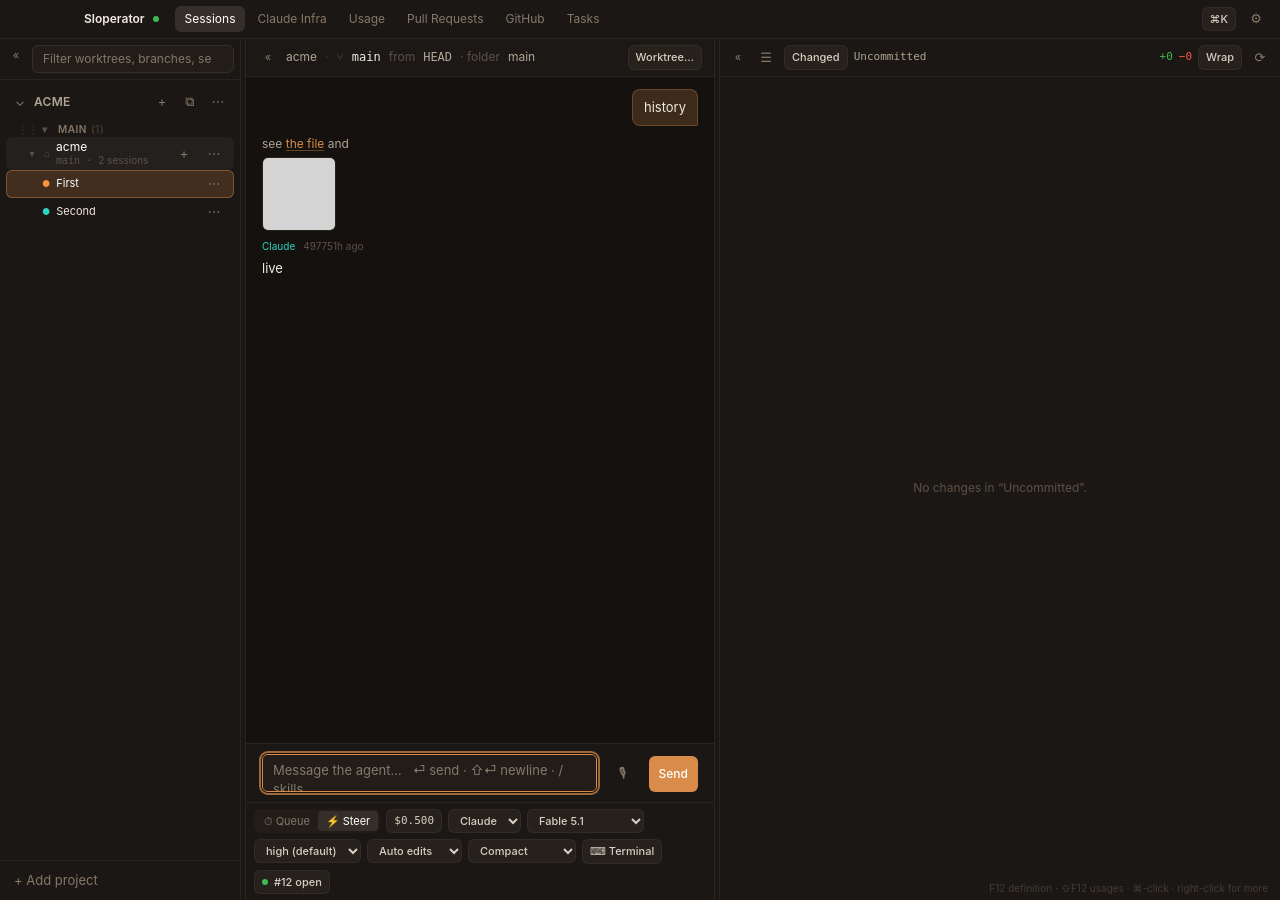
it: the pull request button in a session › shows the number and state of the pull request on this branch, and opens it in the PR tab
Click the button with aria-label "Pull request for this branch" at (292, 882), box x1=254 y1=870 x2=330 y2=894
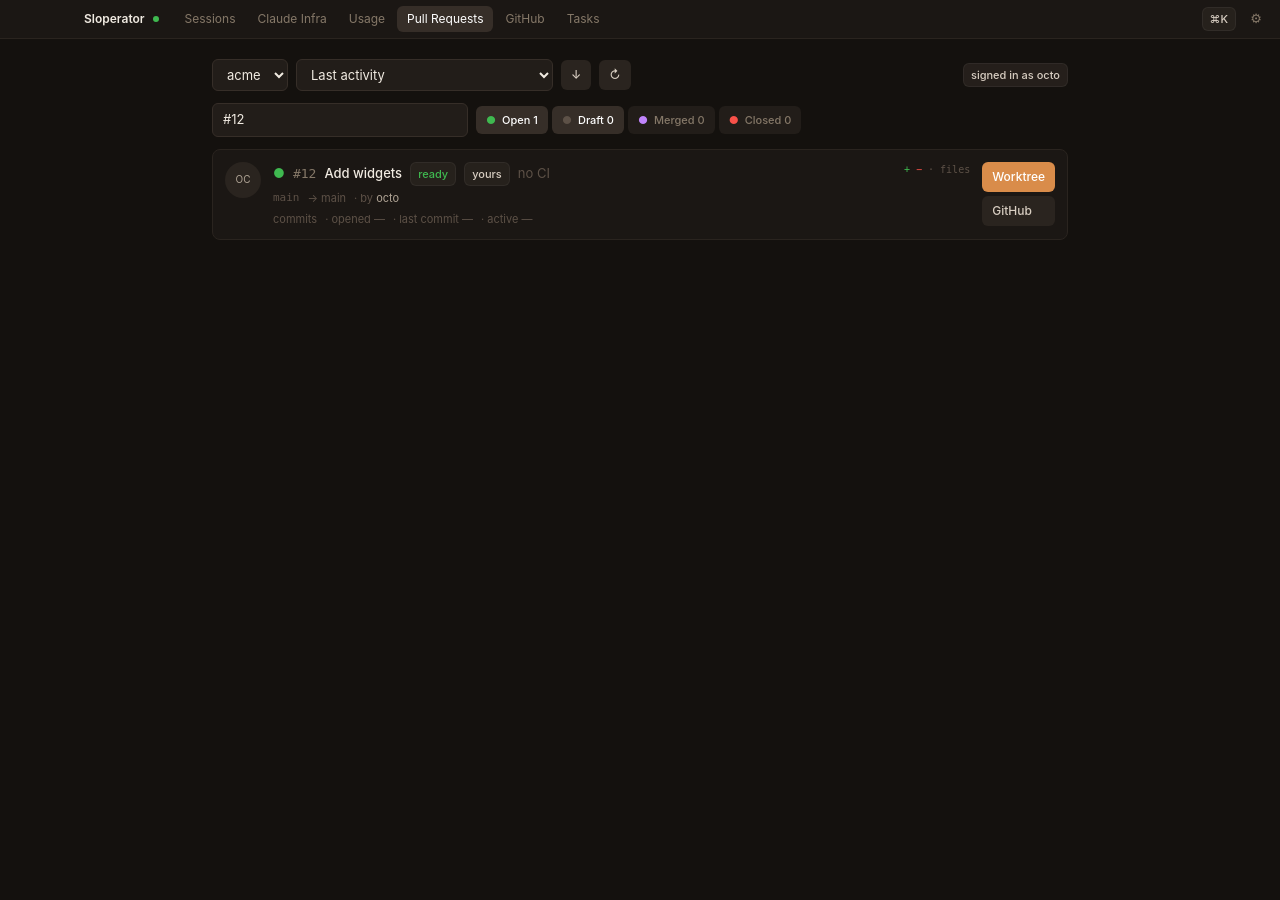
Check: the search field named "Search pull requests" holds "#12", box x1=212 y1=103 x2=468 y2=136
